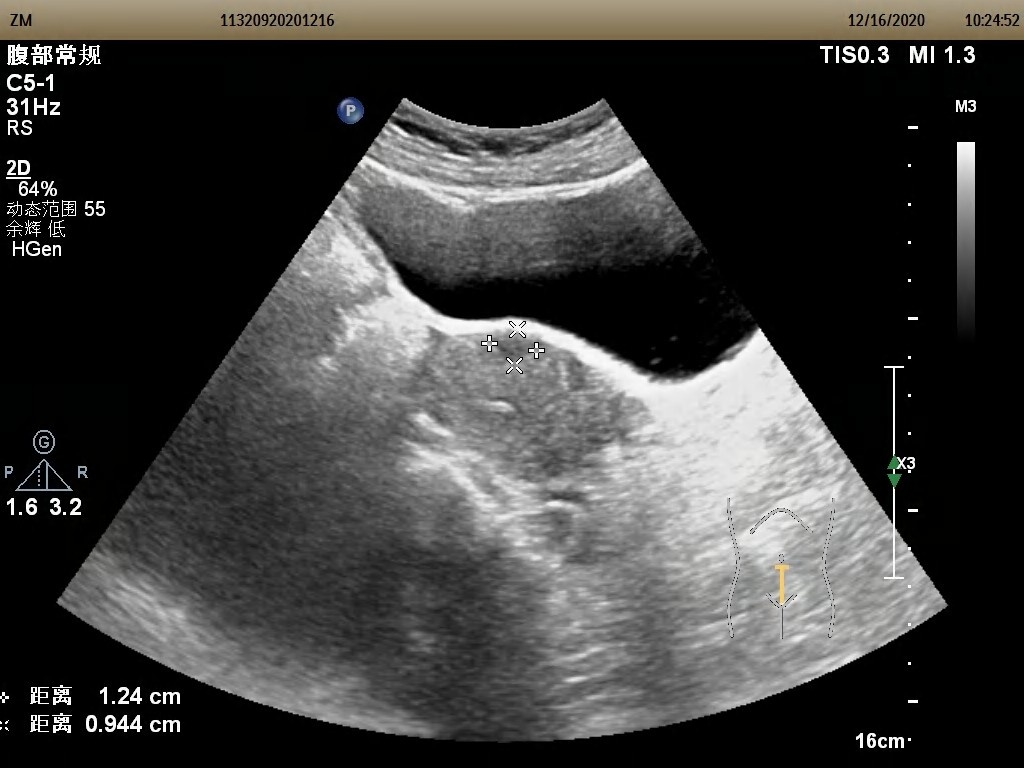肌瘤: (497, 331, 533, 363)
